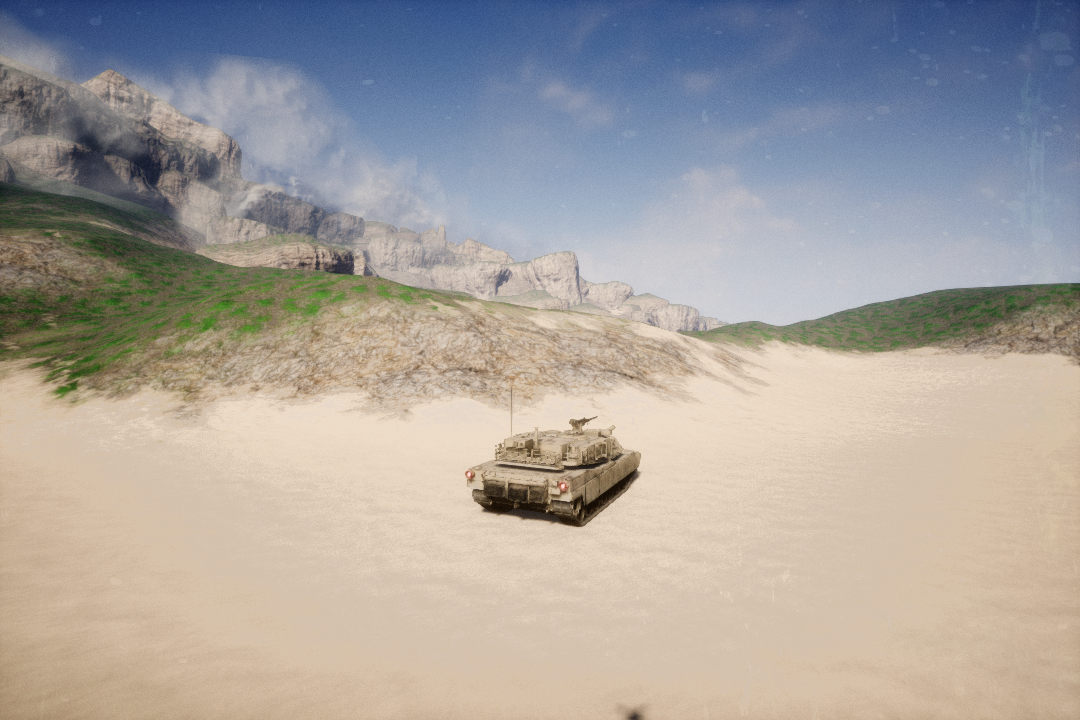tank: (460, 410, 649, 531)
